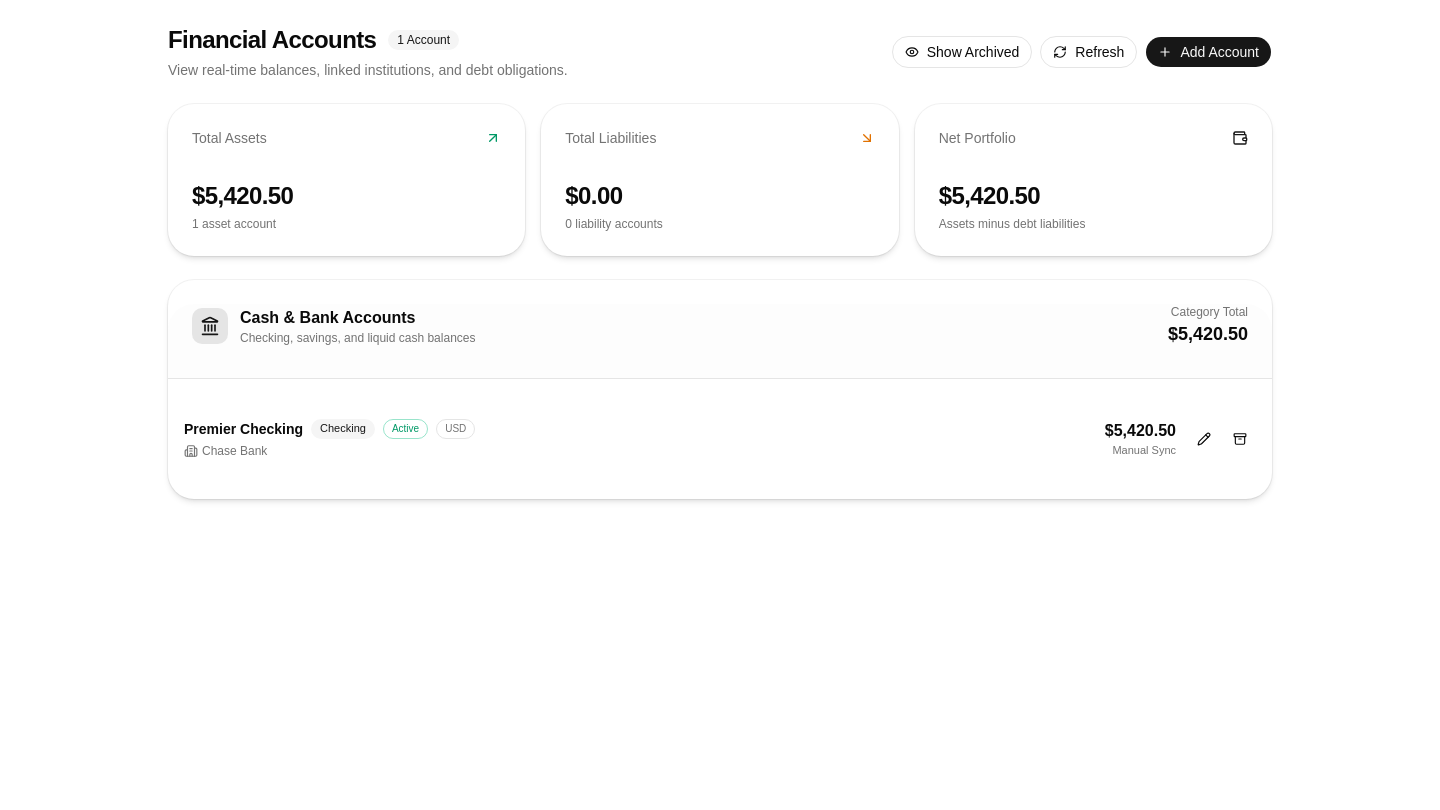
Test case: AccountsPage › 5. opens Add Account sheet when button is clicked
Step 1. Click the button with test id "add-account-btn" → (1209, 52), box x1=1145 y1=36 x2=1272 y2=68
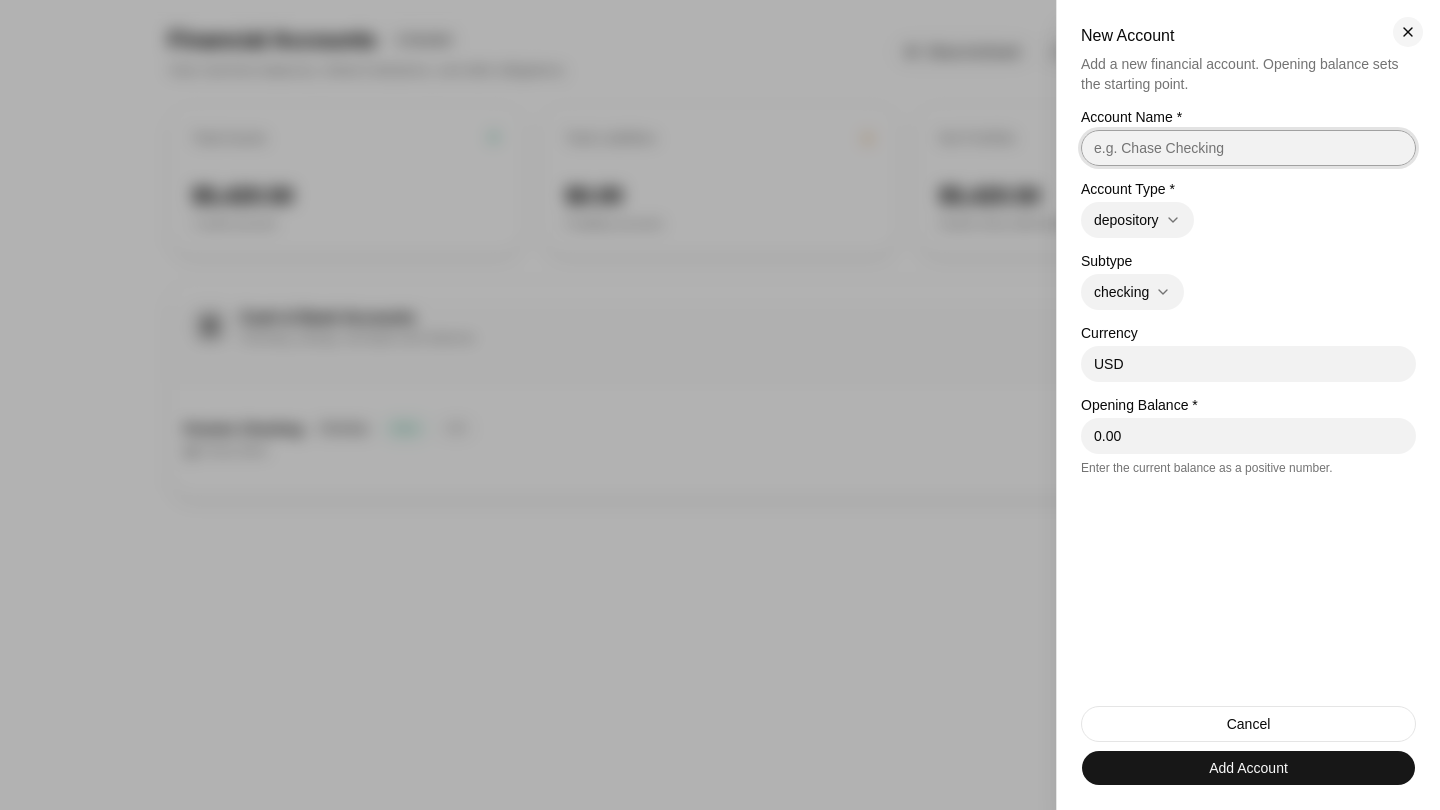
Check: the dialog with test id "account-form-sheet" is shown, box x1=1056 y1=0 x2=1439 y2=809
Check: the heading "New Account" is shown, box x1=1081 y1=27 x2=1174 y2=44
Check: the field with test id "account-name-input" is shown, box x1=1081 y1=130 x2=1416 y2=166
